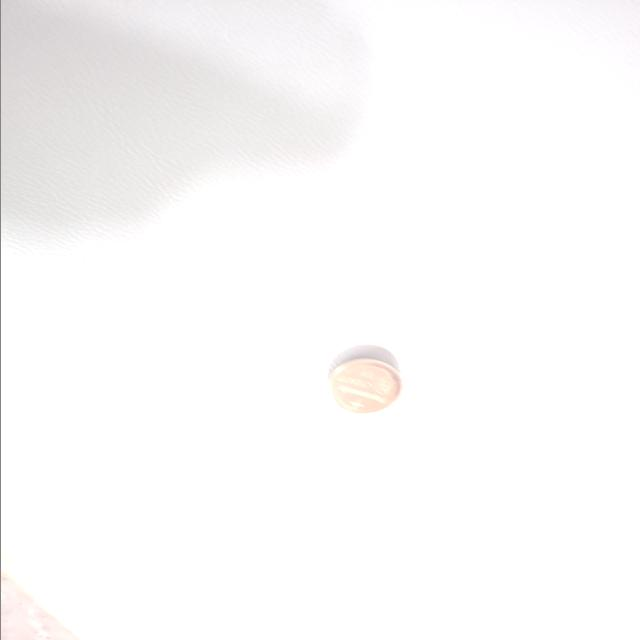COIN: (263, 176, 343, 238)
